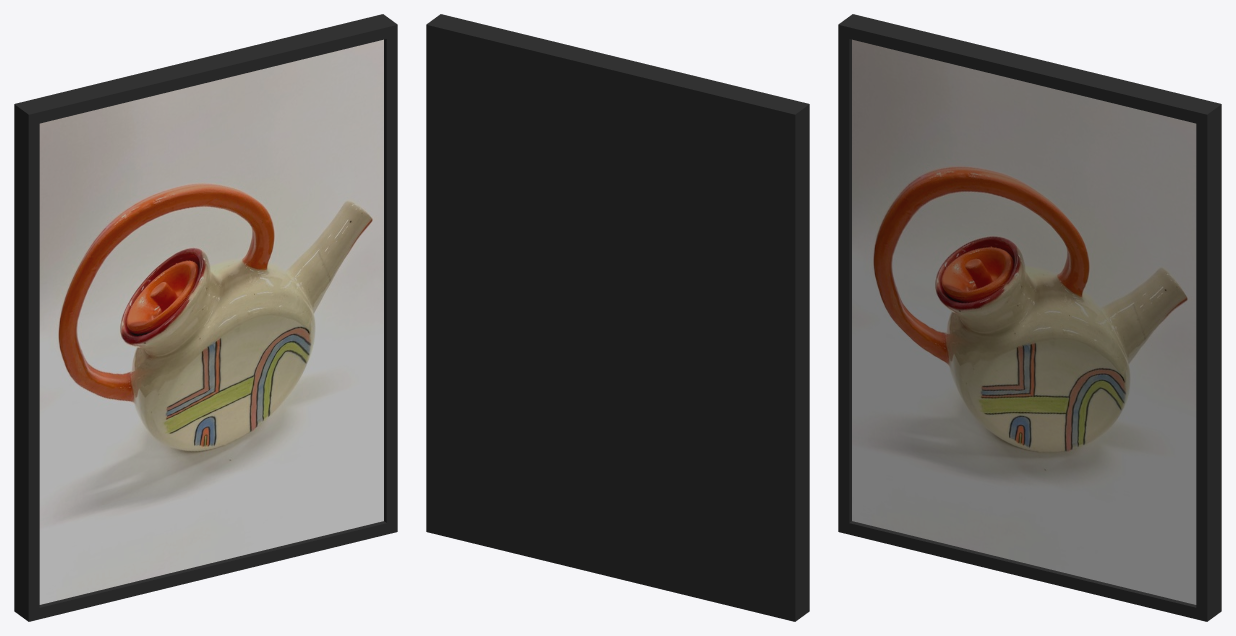
File: ART26_IMG_2813.fbx
3 views of the same model, side by side, from view 1: azimuth 30°, elevation 25°; view 2: azimuth 150°, elevation 25°; view 3: azimuth 330°, elevation 25° (orthographic).
Parts seen in each view (by area): view 1: ART26_IMG_2813; view 2: ART26_IMG_2813; view 3: ART26_IMG_2813.
Boxes of the visible parts, bbox=[...] form: ART26_IMG_2813: bbox=[14, 14, 397, 621]; ART26_IMG_2813: bbox=[426, 14, 809, 621]; ART26_IMG_2813: bbox=[838, 14, 1221, 621].
Size of the model in its own units: 83.75 by 5.75 by 110.
Materials: 2 (1 with a texture image).
